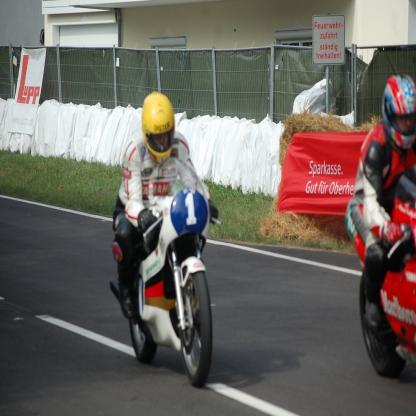Helmet: (380, 70, 416, 154), (139, 92, 174, 151)
